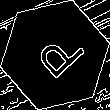P_SW: (25, 24, 85, 86)
